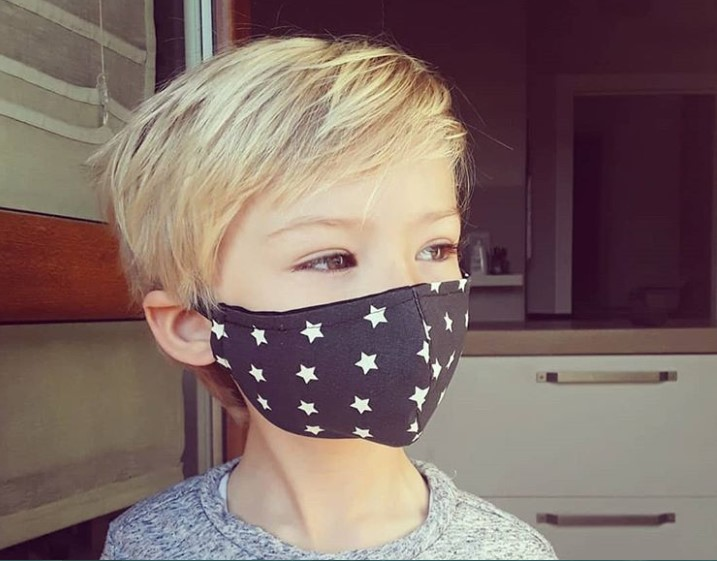face_with_mask: (139, 41, 473, 450)
